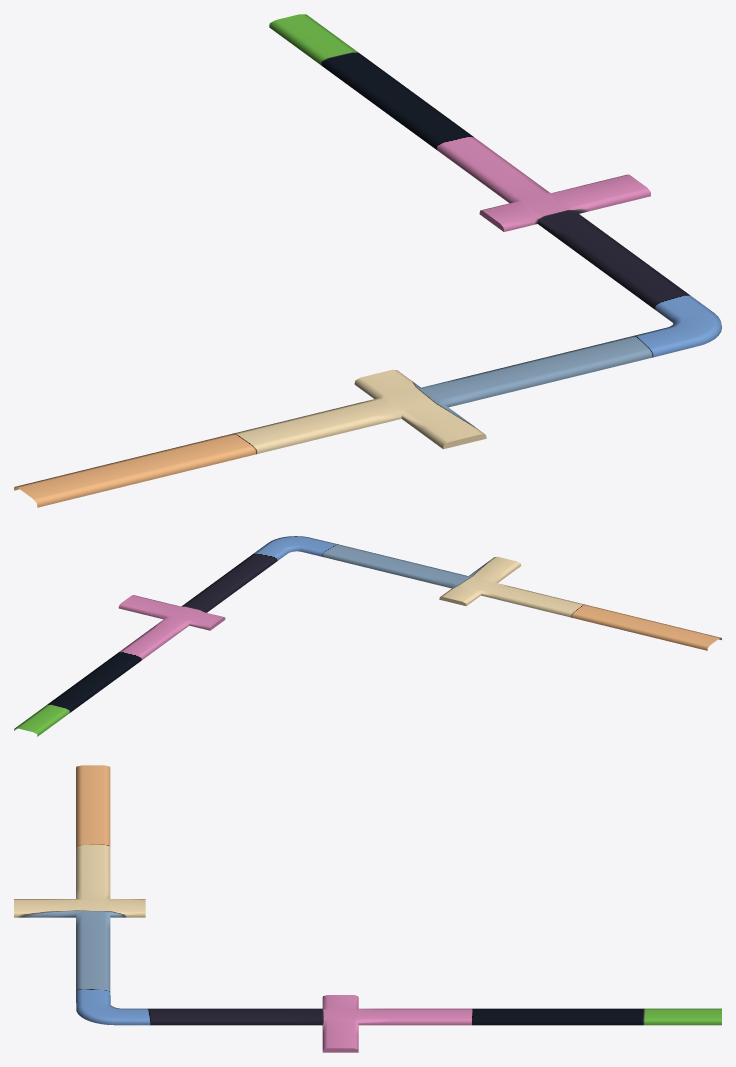
The model's file is pedestrian-way-linear-piece.fbx.
3 renders of one model, top to bottom at view 1: azimuth 30°, elevation 25°; view 2: azimuth 150°, elevation 25°; view 3: azimuth 270°, elevation 25°, orthographic. The views are drawn at different scales.
Visible parts, largest first — view 1: pedestrian-way-curved-piece.001; view 2: pedestrian-way-curved-piece.001; view 3: pedestrian-way-curved-piece.001.
Part boxes in pixels (x1,y1,x2,y2): pedestrian-way-curved-piece.001: (14,14,721,507); pedestrian-way-curved-piece.001: (14,536,721,736); pedestrian-way-curved-piece.001: (14,765,721,1052).
Size of the model in its own units: 12889 by 91.7 by 13624.
